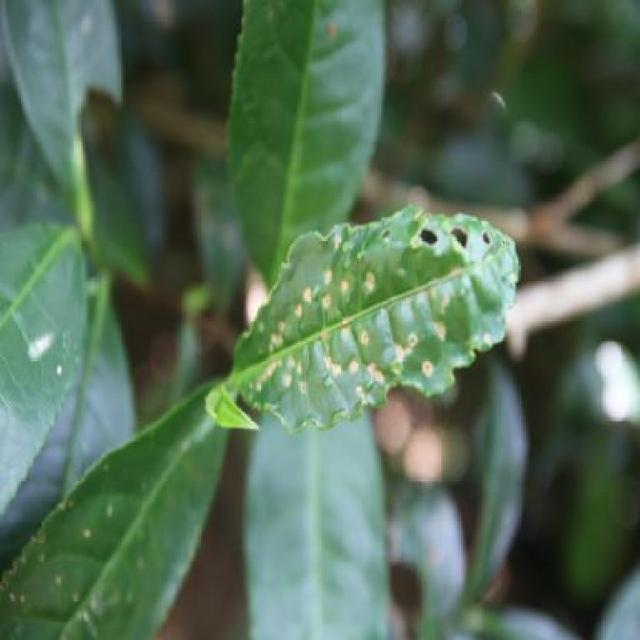Tea Mosquito bug infested leaf: (217, 208, 537, 430)
